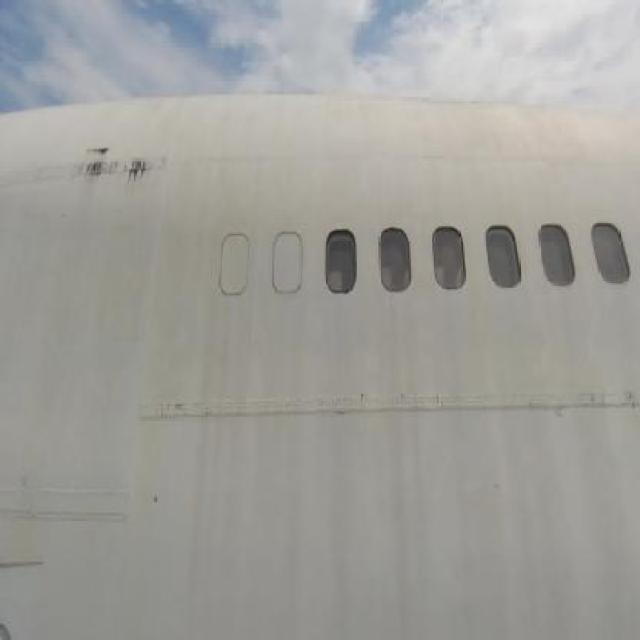Rust: (69, 130, 154, 198)
Scartch: (590, 386, 639, 422)
